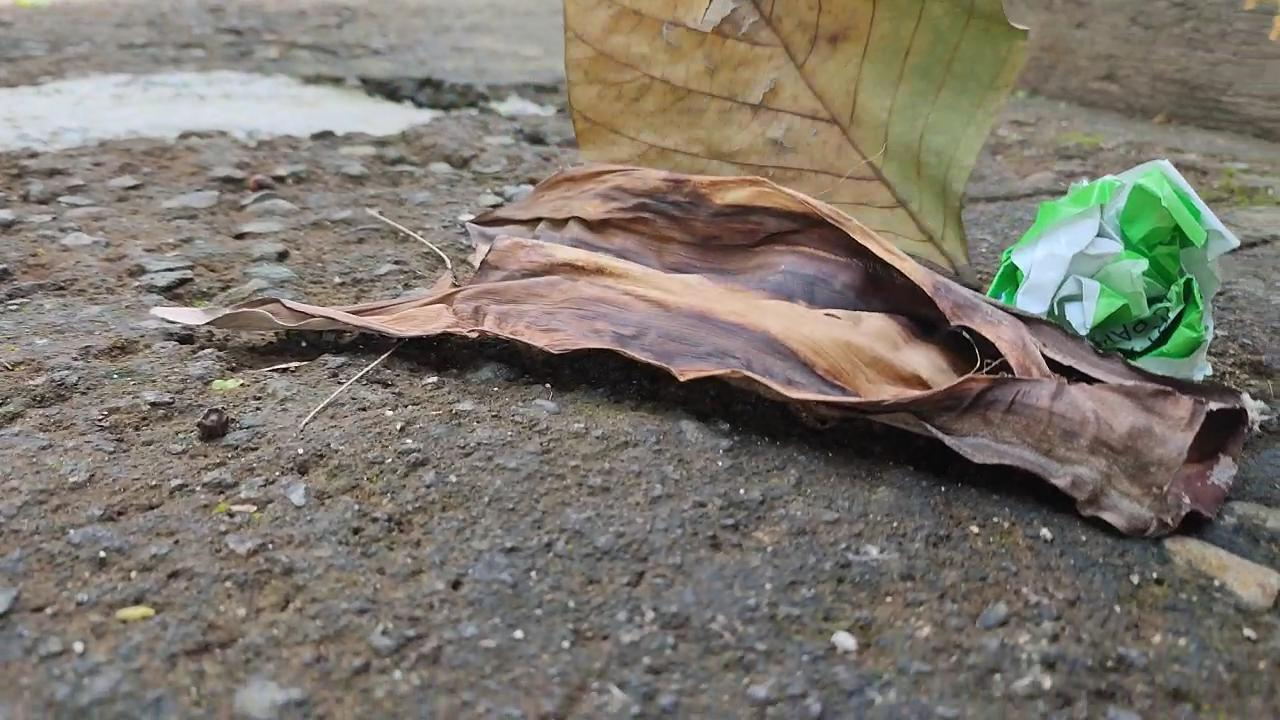Paper: (978, 125, 1247, 385)
